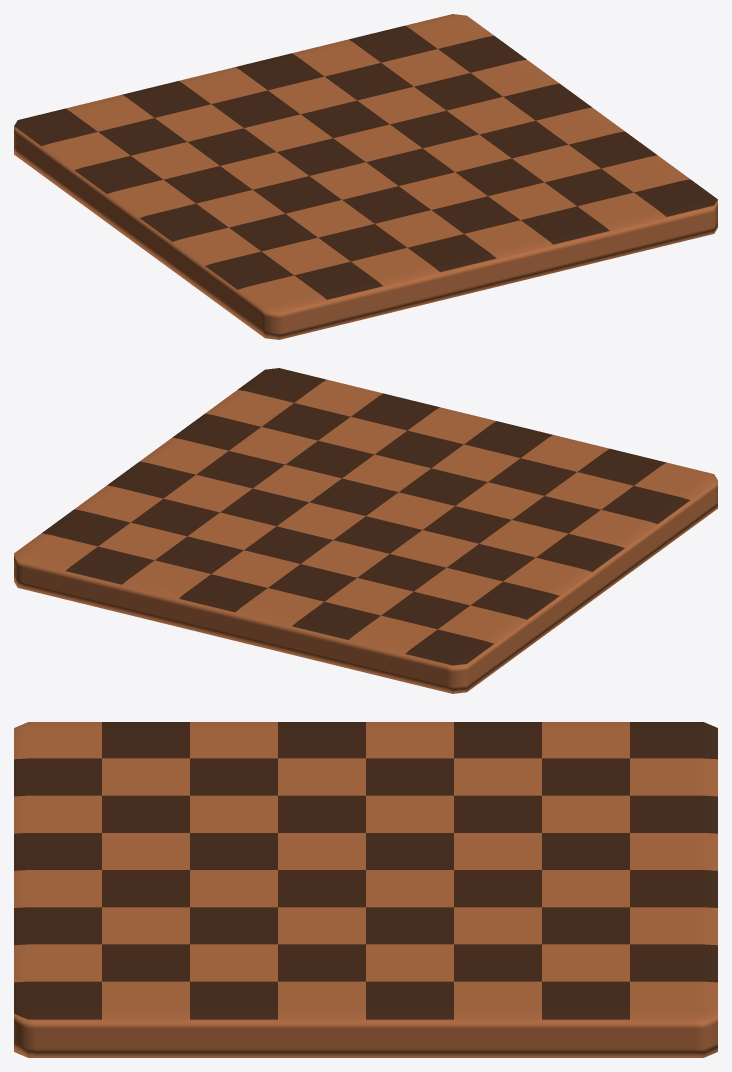
File: checkerboard.glb
3 renders of one model, top to bottom at view 1: azimuth 30°, elevation 25°; view 2: azimuth 150°, elevation 25°; view 3: azimuth 270°, elevation 25°, orthographic. The views are drawn at different scales.
Parts seen in each view (by area): view 1: Checkerboard; view 2: Checkerboard; view 3: Checkerboard.
Part boxes in pixels (x1,y1,x2,y2): Checkerboard: (14, 14, 717, 339); Checkerboard: (14, 368, 717, 693); Checkerboard: (14, 722, 717, 1057).
Bounding box in the file's own units: 16 × 1 × 16.
